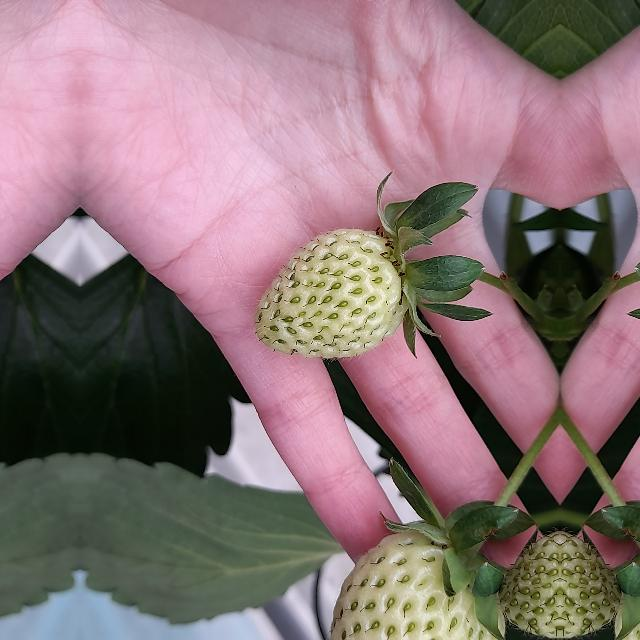Health_25: (254, 229, 408, 359), (329, 532, 503, 640), (505, 529, 559, 639), (561, 529, 615, 639)
